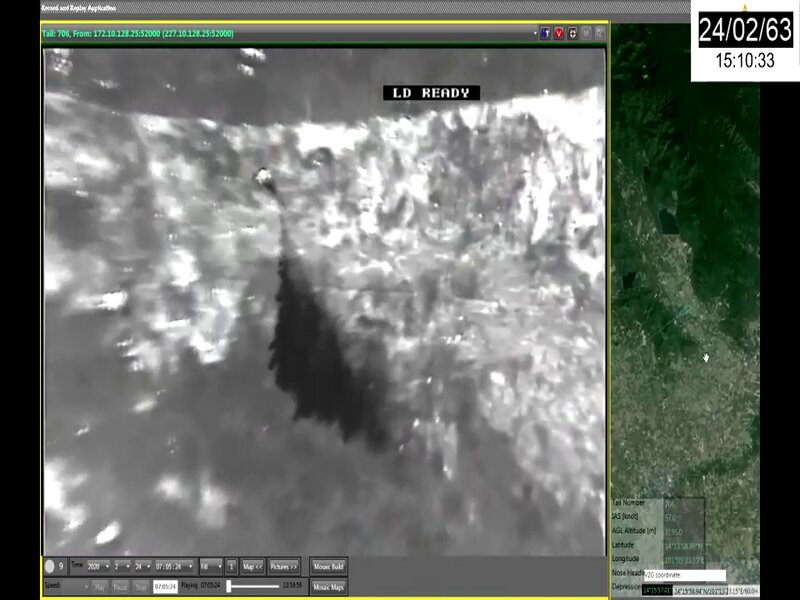Fire: (294, 85, 604, 279)
